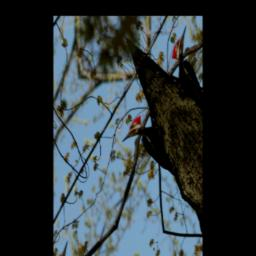Woodpecker: (120, 101, 182, 206)
